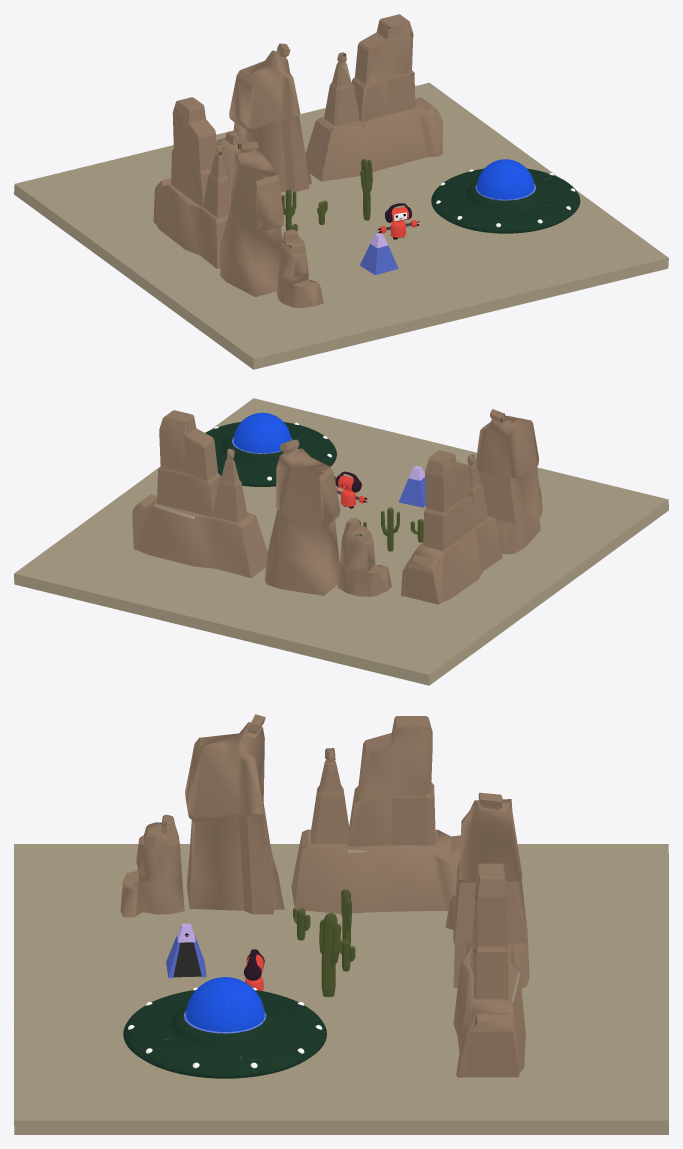
File: mainIter4.gltf
3 renders of one model, top to bottom at view 1: azimuth 30°, elevation 25°; view 2: azimuth 150°, elevation 25°; view 3: azimuth 270°, elevation 25°, orthographic. The views are drawn at different scales.
Parts seen in each view (by area): view 1: Plane; view 2: Plane; view 3: Plane.
Part boxes in pixels (x1,y1,x2,y2): Plane: [14, 14, 668, 369]; Plane: [14, 398, 668, 685]; Plane: [14, 714, 668, 1134].
Bounding box in the file's own units: 23.36 × 7.86 × 23.35.
Materials: 1 (1 with a texture image).
